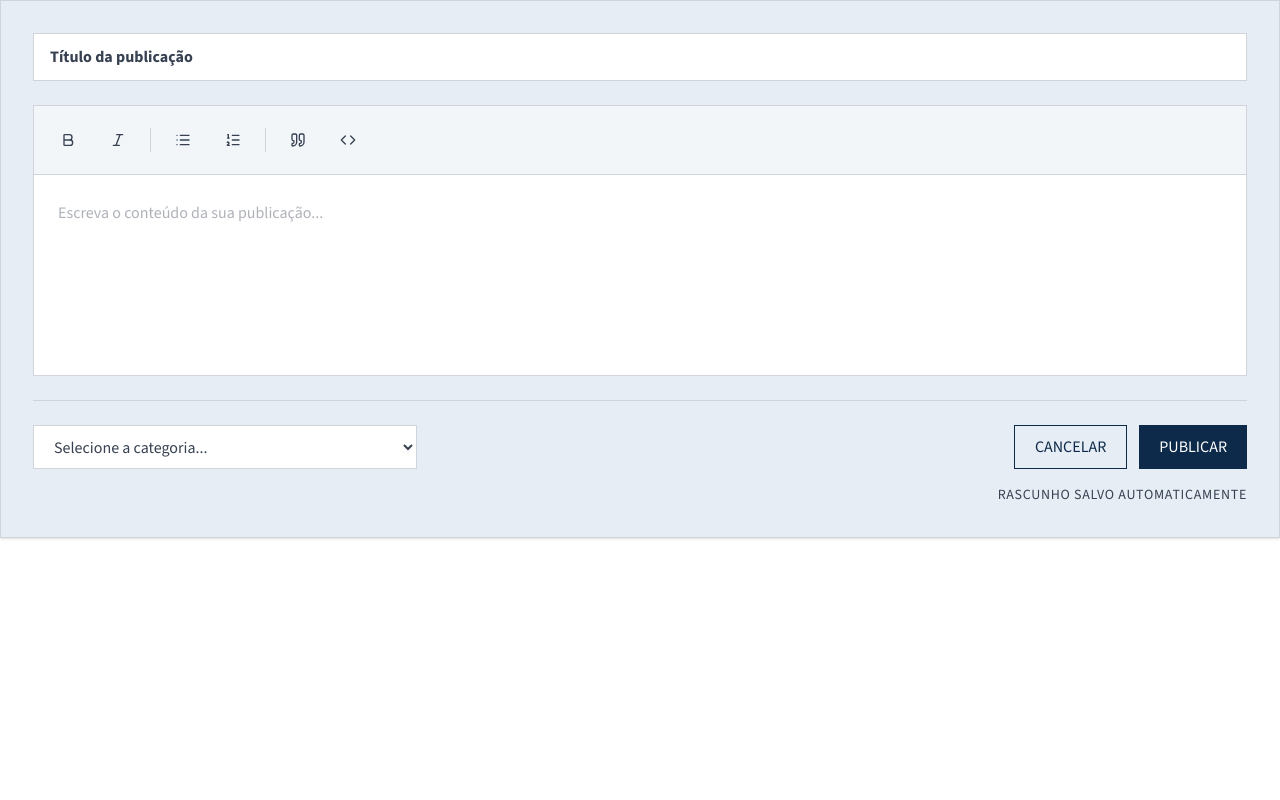
Test: PostEditor - interactive behaviors › prevents submission if title is empty
The image size is (1280, 800).
Note: Try to select category and type in editor, but title is empty
Select "Geral" in the dropdown at (225, 447), box [33,425,417,469]
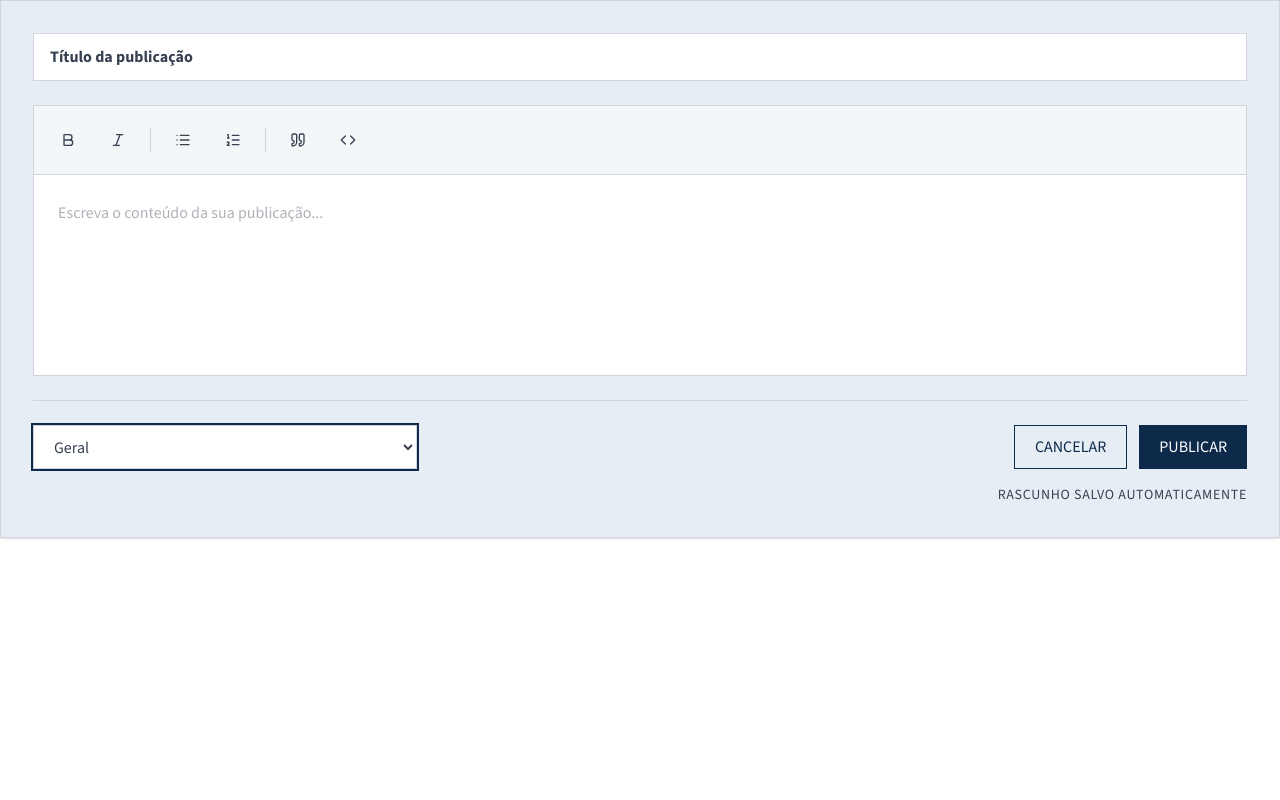
Note: Click submit
Click the button "PUBLICAR" at (1193, 447), box [1139,425,1247,469]
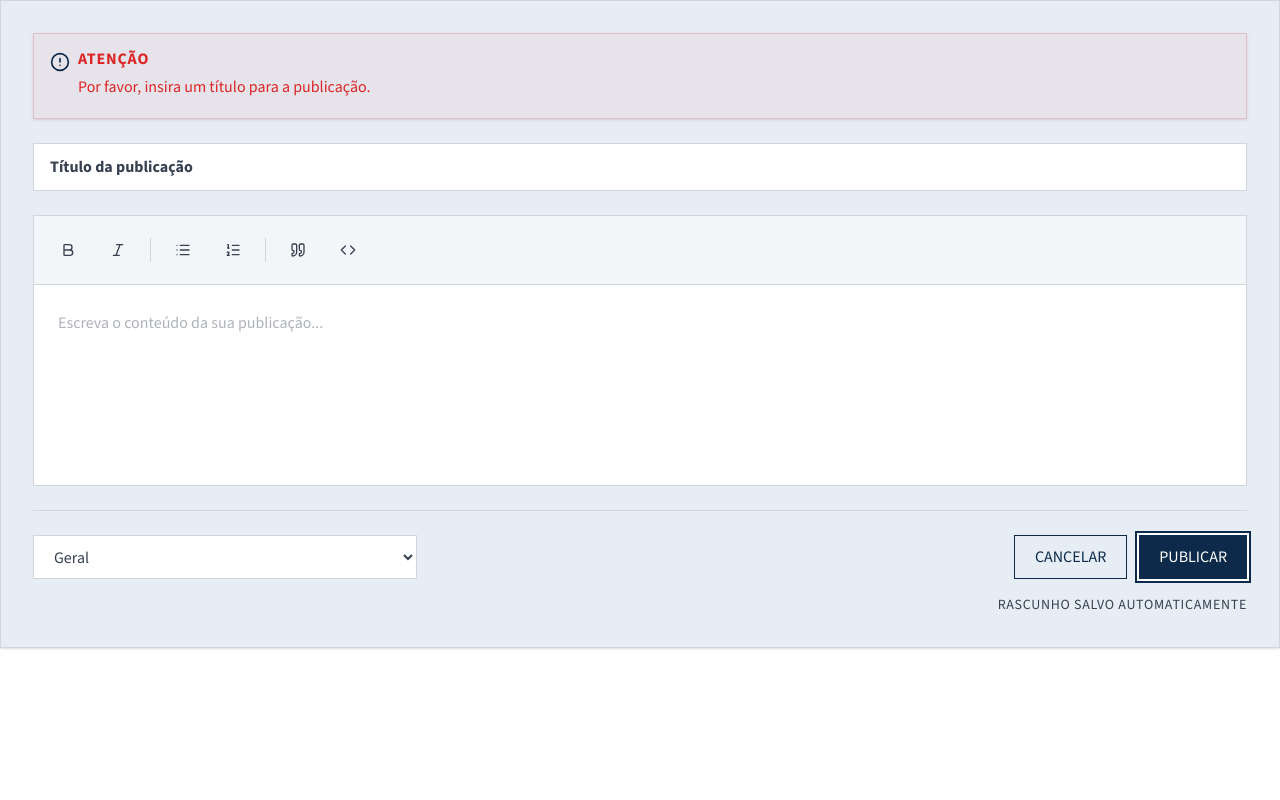
Now the text "Por favor, insira um título para a publicação." is shown, box [78,76,370,97]
